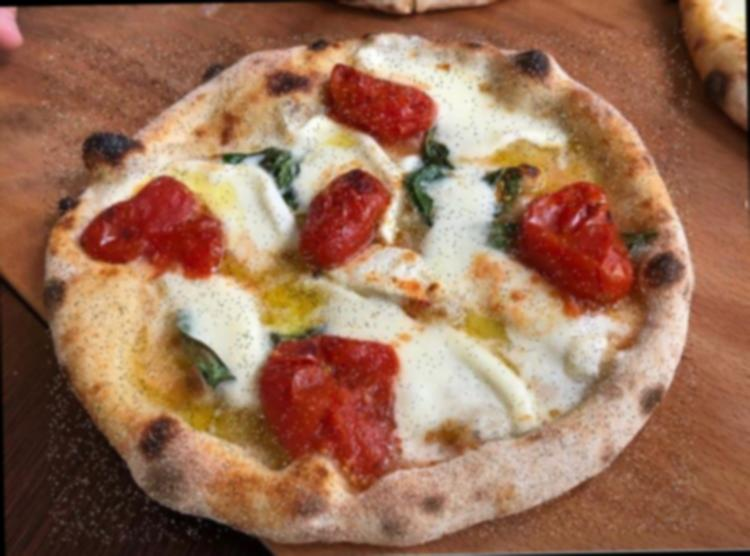Basil: (210, 141, 308, 212), (171, 316, 237, 402), (403, 134, 460, 226)
Cheese: (394, 312, 570, 430), (206, 276, 393, 325), (437, 87, 545, 168), (426, 183, 502, 297), (226, 155, 316, 251), (308, 124, 362, 168)
Pizza: (41, 29, 698, 544)
Tomatoes: (264, 332, 402, 458), (73, 178, 228, 280), (511, 178, 640, 297), (324, 58, 436, 151), (286, 171, 393, 267)
